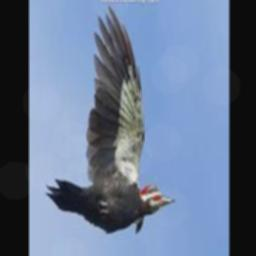Woodpecker: (45, 5, 176, 232)
